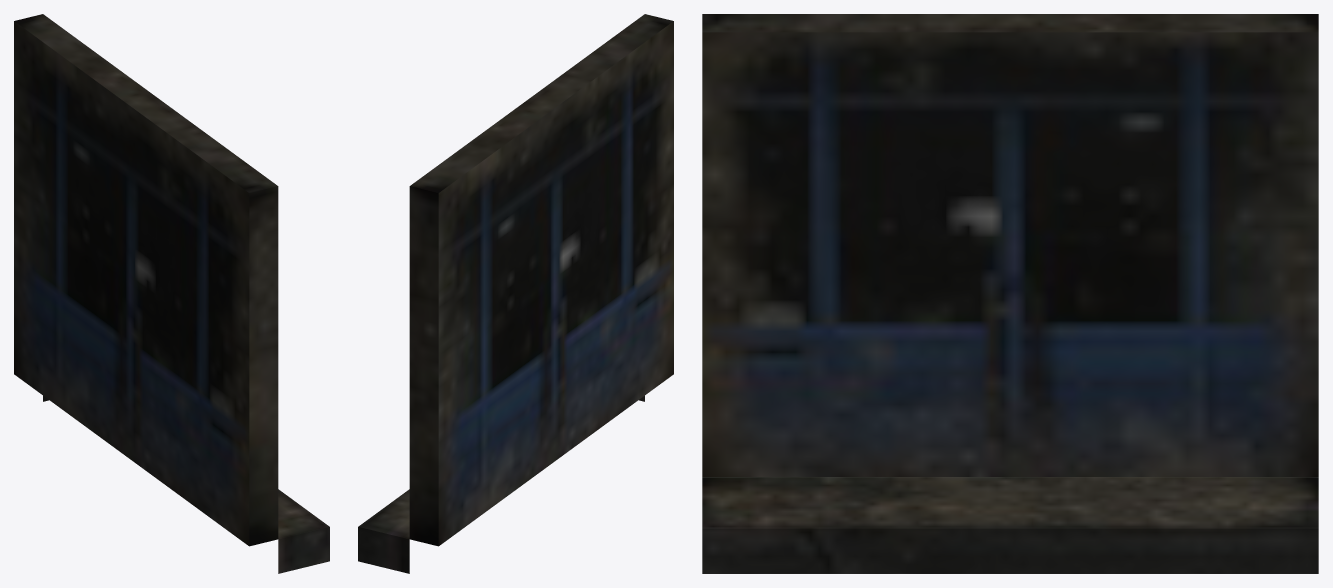
File: EntranceDoor.FBX
The picture shows the model from 3 angles, left to right: view 1: azimuth 30°, elevation 25°; view 2: azimuth 150°, elevation 25°; view 3: azimuth 270°, elevation 25°; orthographic projection. The views are drawn at different scales.
Parts seen in each view (by area): view 1: EntranceDoor; view 2: EntranceDoor; view 3: EntranceDoor.
Part boxes in pixels (bbox=[...]): EntranceDoor: bbox=[14, 14, 329, 573]; EntranceDoor: bbox=[358, 14, 673, 573]; EntranceDoor: bbox=[702, 14, 1318, 573].
Size of the model in its own units: 90.83 by 418 by 459.
